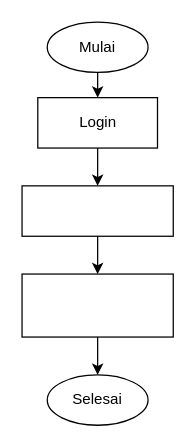
This 195x447 diagram has some shape labels left out. Here are the shapes that lost their labels. From the top down, the box of each, then its label:
(21, 185, 173, 236): Check jadwal shift
(21, 273, 173, 337): Lihat hasil penjualan harian
